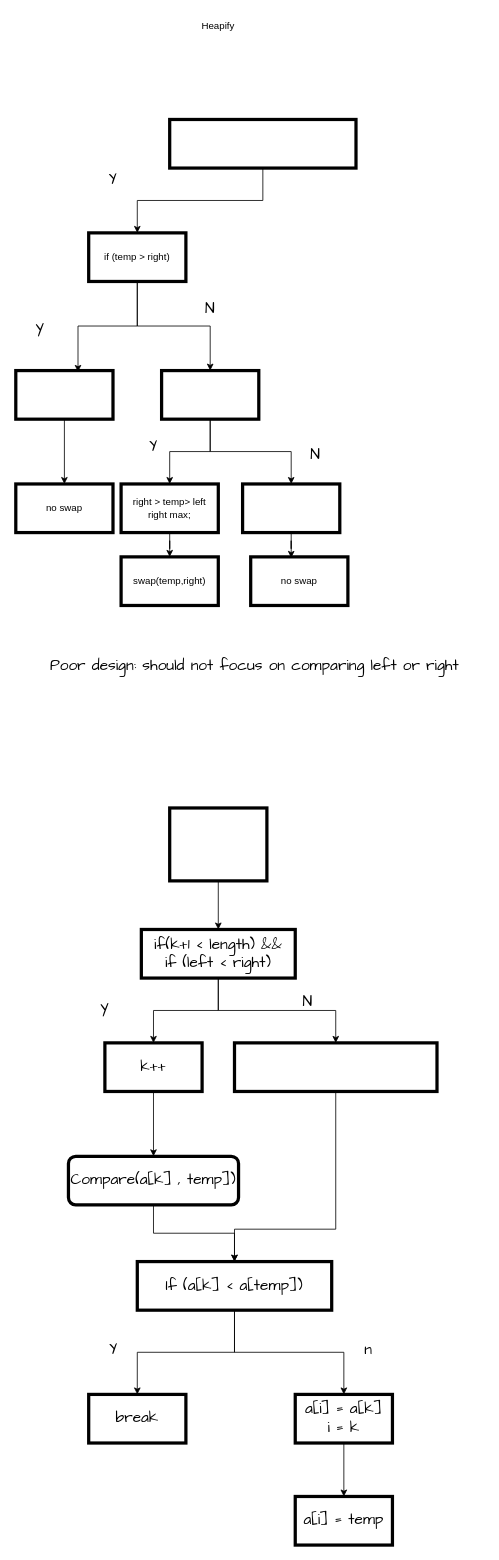
This 499x1560 diagram has some shape labels left out. The centre of each missing label's shape, as x and y in pixels:
"compare(a[k],temp)" belongs at point 335,1067.
"comparision with left and right node" belongs at point 218,844.
"if (temp < right)" belongs at point 210,394.
"If (temp > left)" belongs at point 262,143.
"temp = right temp = right > left; temp max" belongs at point 291,508.
"temp > left && temp > right temp max" belongs at point 64,394.
